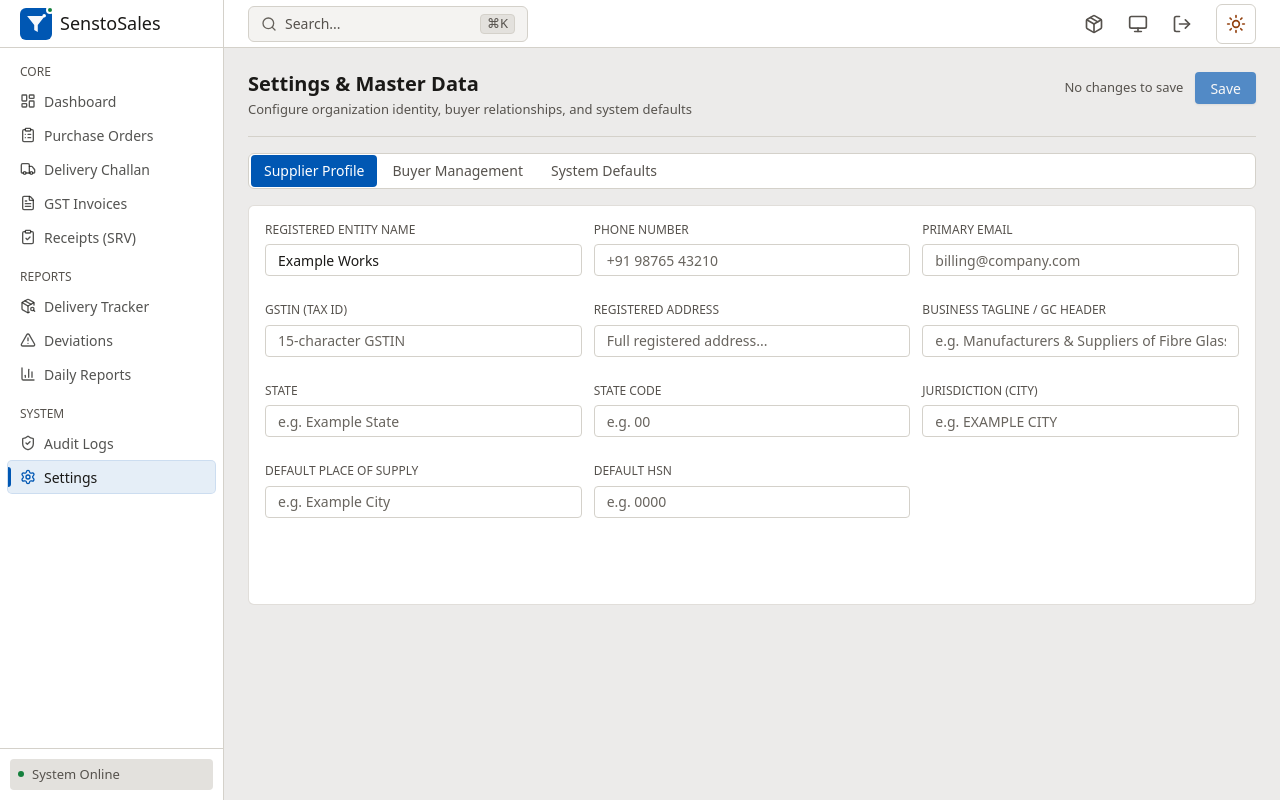
settings save (SPEC-15 PR 3, INV-72) › an invalid rate is shown at its field and Save says where to look
The image size is (1280, 800).
Click the button "System Defaults" at [604, 170], box [538,154,670,186]
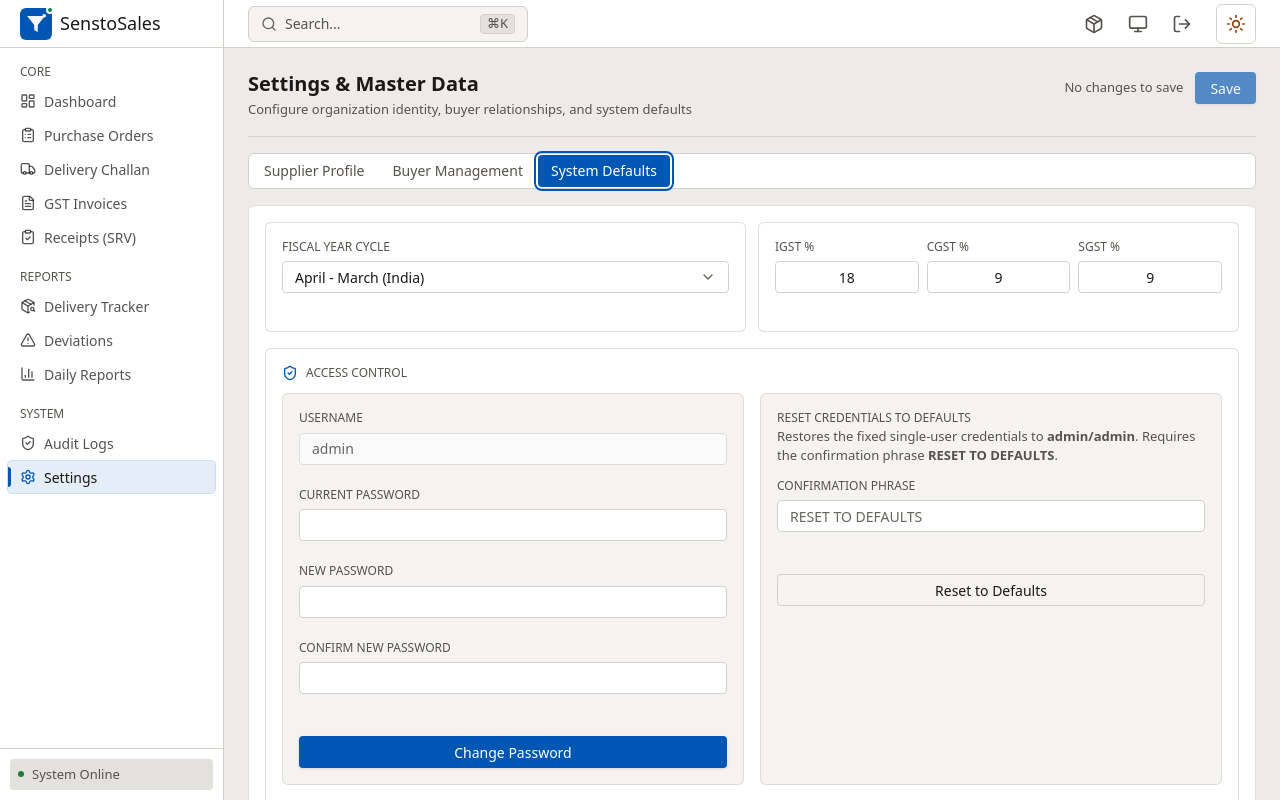
Replace the text in the field labelled "CGST %" with "x" at [999, 277], box [927,261,1070,293]
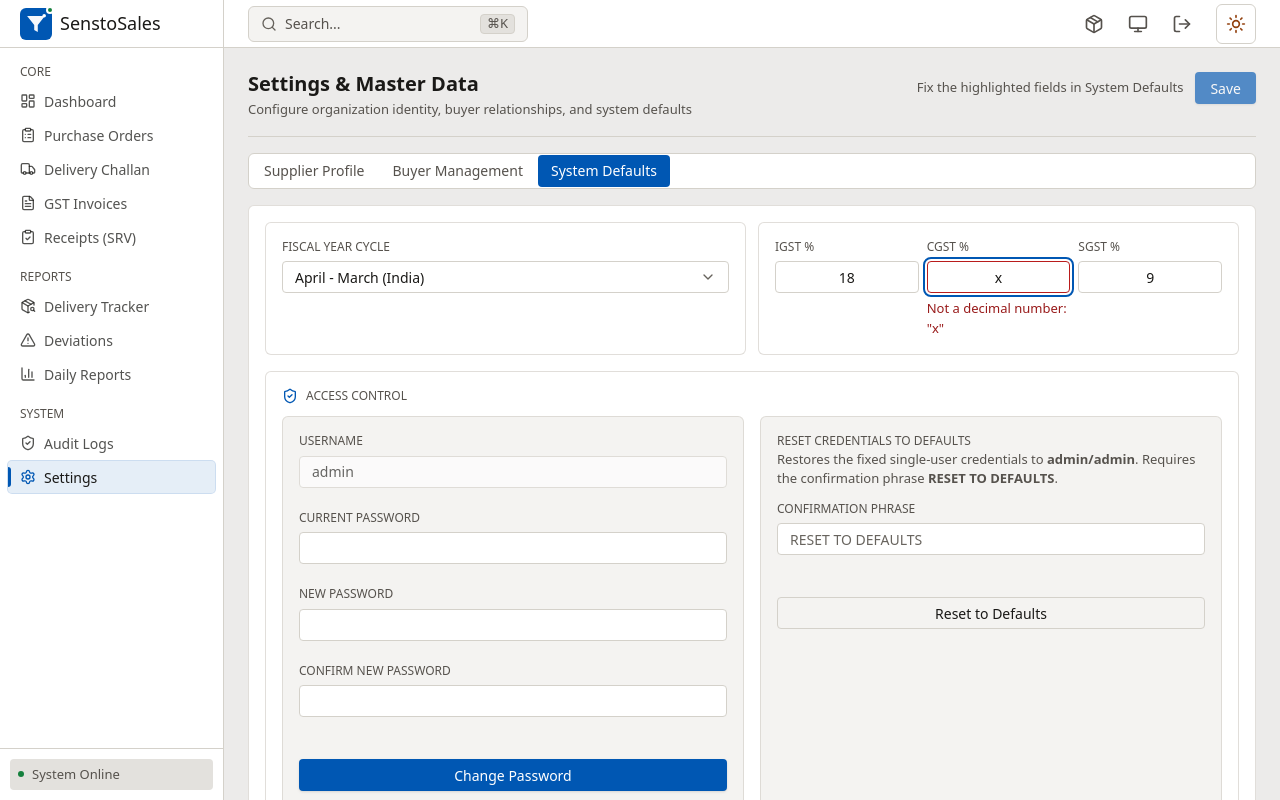
expect the button "Save" is disabled: met, box [1195,72,1256,104]
expect the text with id "save-reason" reads "Fix the highlighted fields in System Defaults": met, box [917,78,1184,96]
expect the text "Not a decimal number: \"x\"" is shown: met, box [927,299,1070,338]
